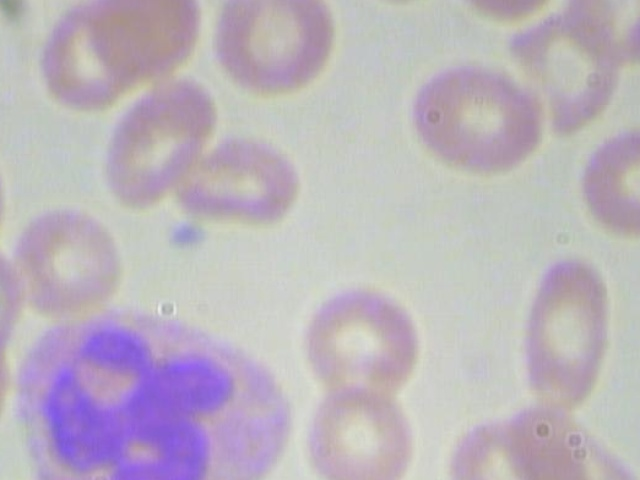Platelets: (168, 218, 220, 257)
RBC: (403, 55, 545, 178), (99, 74, 215, 219), (171, 126, 312, 244), (300, 279, 428, 404), (517, 249, 611, 417), (5, 202, 133, 319), (207, 0, 341, 104), (304, 386, 426, 480), (88, 0, 210, 80), (575, 126, 640, 248), (559, 0, 640, 75), (441, 0, 563, 26), (0, 239, 25, 353), (338, 0, 447, 9)
WBC: (0, 298, 309, 480)
